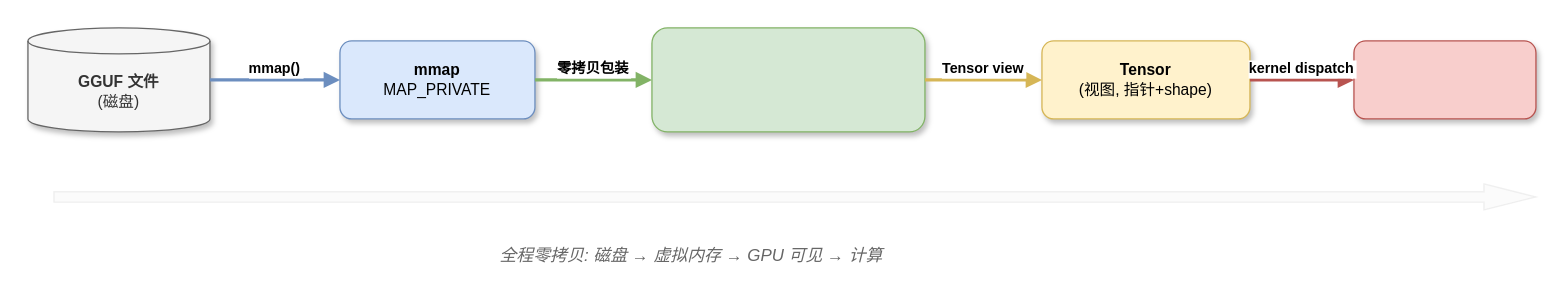
Some shapes in this 1567 by 298 pixel diagram are drawn without their labels. The centre of each missing label's shape, as x and y in pixels:
Metal GPU 直接读取: the point at 1445,81
MTLBuffer newBufferWithBytesNoCopy StorageModeShared: the point at 789,81
